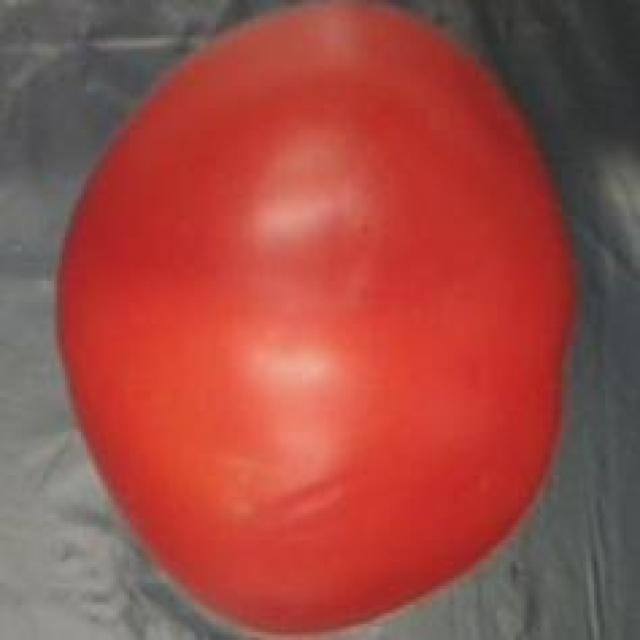ripe tomato: (46, 5, 594, 640)
